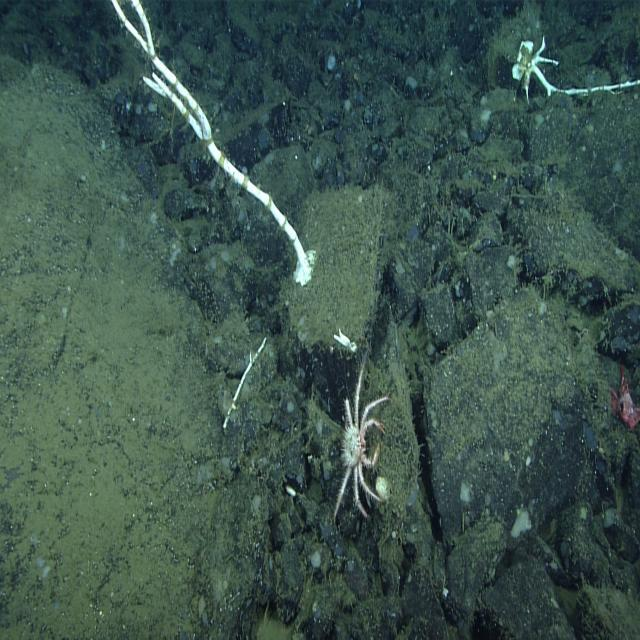Brittle Star: (601, 185, 629, 224), (574, 325, 590, 345)
Not Brittle Star: (602, 354, 640, 439)
